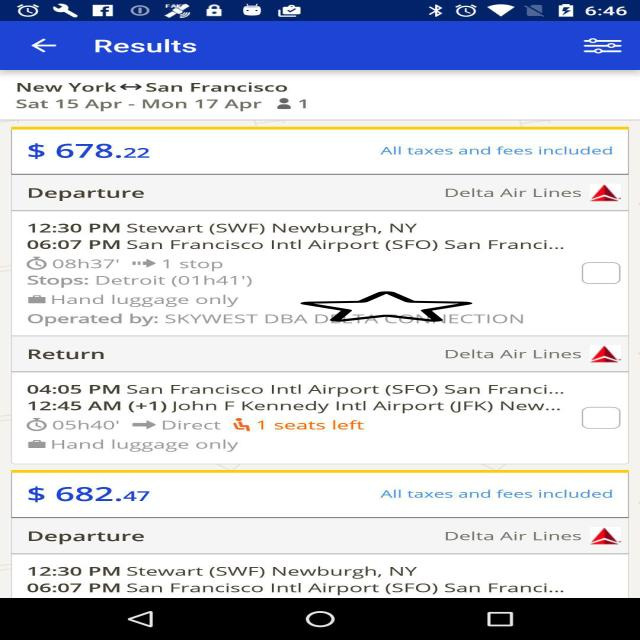forced continuity: (300, 291, 472, 322)
